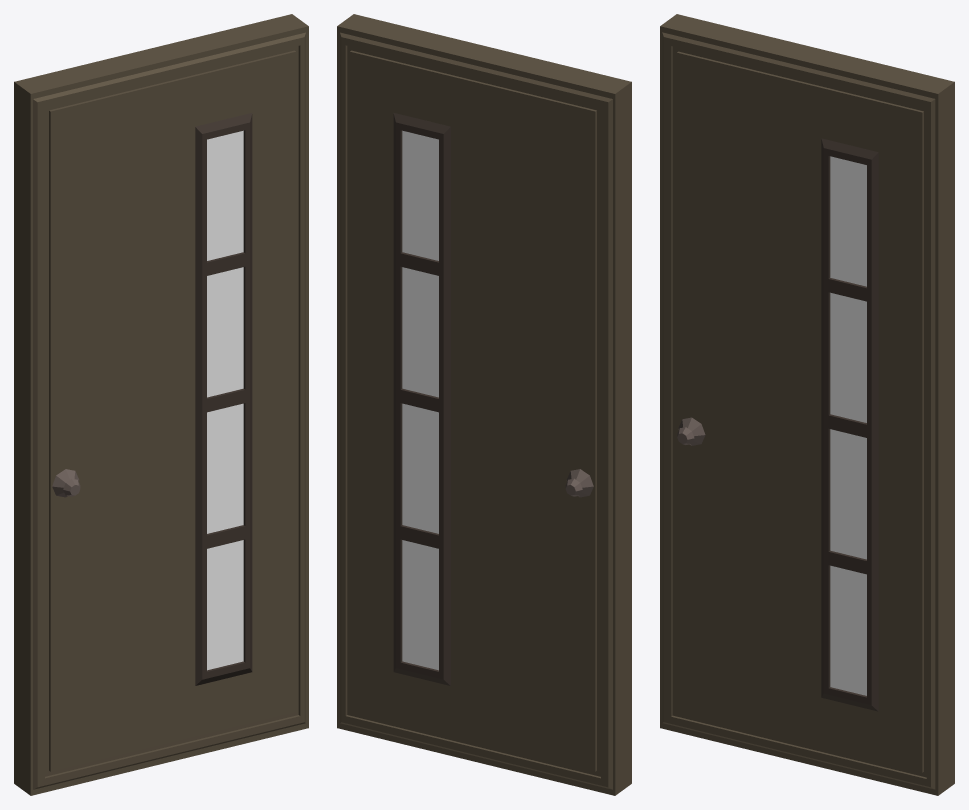
File: Door_6.glb
3 renders of one model, left to right at view 1: azimuth 30°, elevation 25°; view 2: azimuth 150°, elevation 25°; view 3: azimuth 330°, elevation 25°, orthographic.
Visible parts, largest first — view 1: Door_6; view 2: Door_6; view 3: Door_6.
Part boxes in pixels (left/top/right/bottom): Door_6: left=14, top=14, right=308, bottom=795; Door_6: left=337, top=14, right=631, bottom=795; Door_6: left=660, top=14, right=954, bottom=795.
Bounding box in the file's own units: 1.74 × 4.2 × 0.4211.
